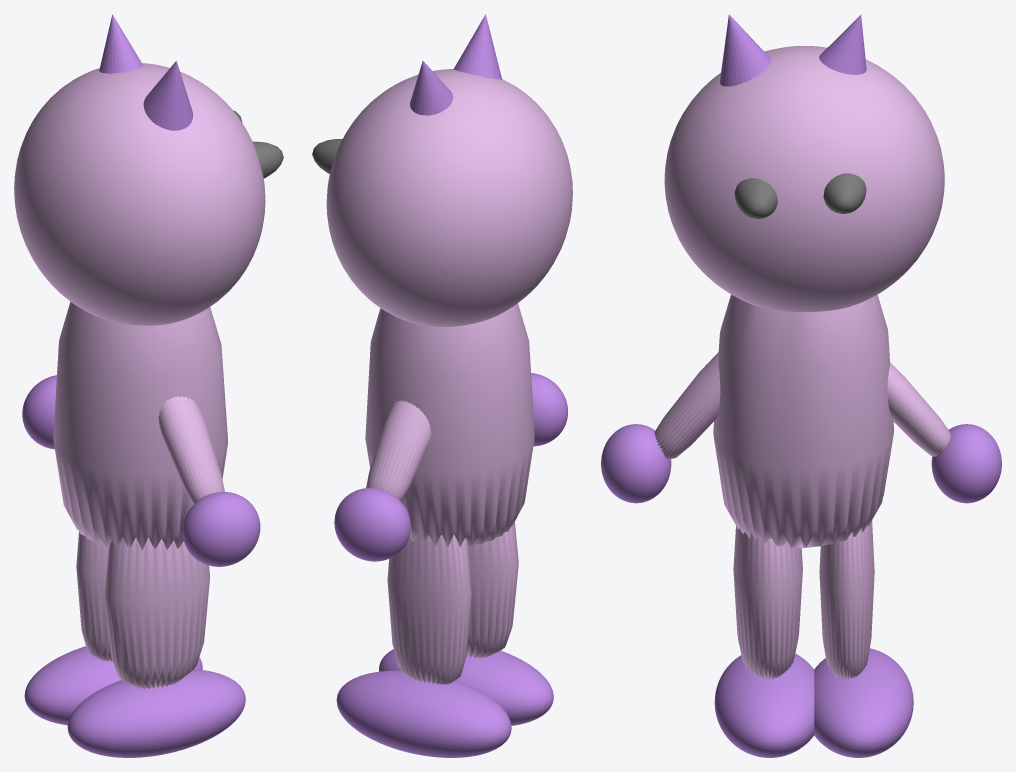
Rendered from Final_Plushie.fbx.
The picture shows the model from 3 angles, left to right: view 1: azimuth 30°, elevation 25°; view 2: azimuth 150°, elevation 25°; view 3: azimuth 270°, elevation 25°; orthographic projection. The views are drawn at different scales.
Visible parts, largest first — view 1: Head, Body, RightLeg, RightFoot, RightHand, LeftFoot, RightArm, LeftLeg, RightEar, LeftHand, LeftEar, RightEye; view 2: Head, Body, LeftFoot, LeftLeg, RightLeg, RightFoot, LeftHand, LeftArm, RightHand, RightEar, LeftEar, LeftEye; view 3: Head, Body, RightLeg, LeftFoot, RightFoot, LeftLeg, RightHand, LeftHand, RightArm, LeftArm, RightEar, LeftEar (+2 smaller).
Part boxes in pixels (x1=…): Head: x1=14, y1=63, x2=265, y2=325; Body: x1=53, y1=301, x2=227, y2=550; RightLeg: x1=104, y1=537, x2=209, y2=688; RightFoot: x1=67, y1=669, x2=245, y2=757; RightHand: x1=182, y1=492, x2=260, y2=566; LeftFoot: x1=24, y1=646, x2=202, y2=725; RightArm: x1=158, y1=396, x2=224, y2=504; LeftLeg: x1=76, y1=532, x2=112, y2=661; RightEar: x1=143, y1=61, x2=193, y2=130; LeftHand: x1=22, y1=375, x2=56, y2=449; LeftEar: x1=99, y1=14, x2=143, y2=73; RightEye: x1=253, y1=141, x2=283, y2=178; Head: x1=326, y1=69, x2=572, y2=326; Body: x1=365, y1=303, x2=534, y2=546; LeftFoot: x1=336, y1=670, x2=511, y2=757; LeftLeg: x1=387, y1=534, x2=471, y2=684; RightLeg: x1=466, y1=522, x2=518, y2=657; RightFoot: x1=379, y1=649, x2=553, y2=725; LeftHand: x1=334, y1=488, x2=410, y2=561; LeftArm: x1=366, y1=400, x2=431, y2=501; RightHand: x1=531, y1=373, x2=567, y2=446; RightEar: x1=453, y1=14, x2=502, y2=79; LeftEar: x1=410, y1=61, x2=453, y2=115; LeftEye: x1=312, y1=138, x2=342, y2=173; Head: x1=664, y1=46, x2=944, y2=312; Body: x1=713, y1=294, x2=893, y2=548; RightLeg: x1=733, y1=526, x2=802, y2=679; LeftFoot: x1=814, y1=648, x2=913, y2=757; RightFoot: x1=714, y1=653, x2=814, y2=757; LeftLeg: x1=819, y1=520, x2=874, y2=679; RightHand: x1=601, y1=424, x2=671, y2=503; LeftHand: x1=931, y1=424, x2=1001, y2=503; RightArm: x1=654, y1=352, x2=720, y2=459; LeftArm: x1=887, y1=362, x2=950, y2=456; RightEar: x1=719, y1=14, x2=771, y2=86; LeftEar: x1=819, y1=15, x2=866, y2=74.
Size of the model in its own units: 448 by 1336 by 671.
